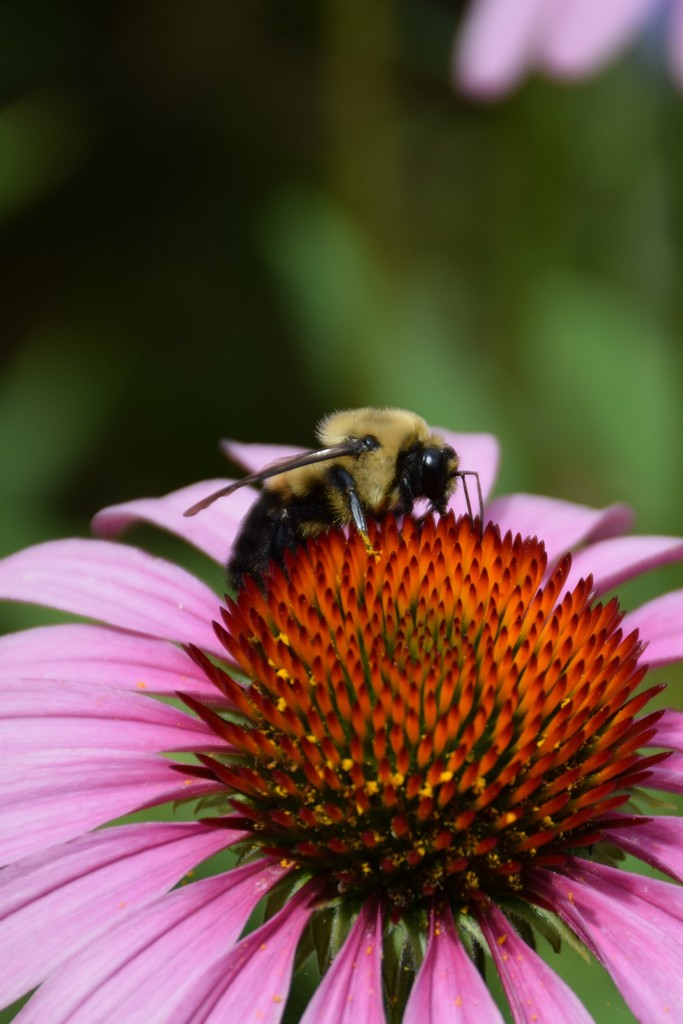bumblebee: (185, 406, 489, 603)
